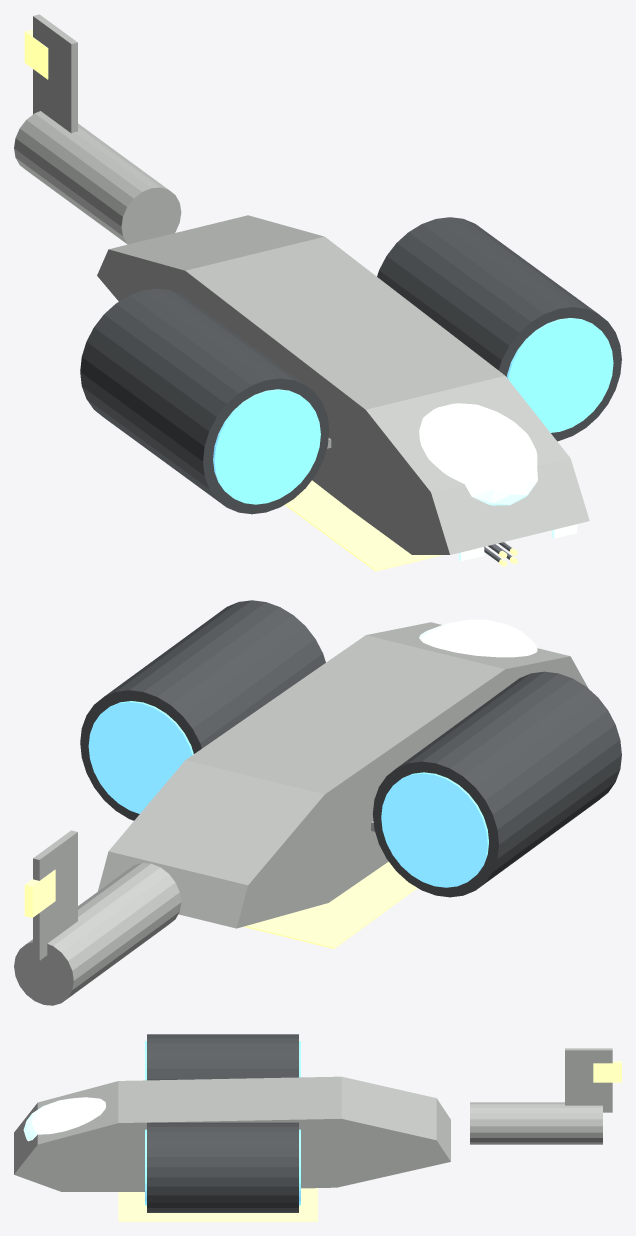
File: plasma_heli.glb
3 renders of one model, top to bottom at view 1: azimuth 30°, elevation 25°; view 2: azimuth 150°, elevation 25°; view 3: azimuth 270°, elevation 25°, orthographic. The views are drawn at different scales.
Visible parts, largest first — view 1: plasma_heli_body, plasma_heli_duct-1, plasma_heli_duct1, plasma_heli_boom, plasma_heli_ring-1_f, plasma_heli_canopy, plasma_heli_ring1_f, plasma_heli_underglow, plasma_heli_fin, plasma_heli_fin_glow; view 2: plasma_heli_body, plasma_heli_duct-1, plasma_heli_duct1, plasma_heli_boom, plasma_heli_ring-1_r, plasma_heli_ring1_r, plasma_heli_underglow, plasma_heli_fin, plasma_heli_canopy, plasma_heli_fin_glow; view 3: plasma_heli_body, plasma_heli_duct1, plasma_heli_duct-1, plasma_heli_boom, plasma_heli_underglow, plasma_heli_fin, plasma_heli_canopy, plasma_heli_fin_glow.
Boxes of the visible parts, x1,y1,x2,y2 form: plasma_heli_body: (97, 215, 589, 554); plasma_heli_duct-1: (80, 288, 329, 514); plasma_heli_duct1: (377, 217, 621, 441); plasma_heli_boom: (14, 111, 181, 244); plasma_heli_ring-1_f: (213, 389, 320, 504); plasma_heli_canopy: (419, 403, 537, 505); plasma_heli_ring1_f: (506, 318, 613, 432); plasma_heli_underglow: (285, 480, 442, 571); plasma_heli_fin: (33, 14, 77, 133); plasma_heli_fin_glow: (24, 29, 48, 79); plasma_heli_body: (98, 622, 588, 928); plasma_heli_duct-1: (372, 671, 621, 897); plasma_heli_duct1: (80, 600, 325, 820); plasma_heli_boom: (14, 863, 181, 1005); plasma_heli_ring-1_r: (381, 772, 488, 887); plasma_heli_ring1_r: (88, 701, 193, 813); plasma_heli_underglow: (243, 861, 416, 948); plasma_heli_fin: (33, 830, 77, 960); plasma_heli_canopy: (419, 619, 537, 657); plasma_heli_fin_glow: (24, 869, 55, 917); plasma_heli_body: (14, 1076, 450, 1191); plasma_heli_duct1: (147, 1122, 298, 1212); plasma_heli_duct-1: (147, 1034, 298, 1080); plasma_heli_boom: (470, 1102, 602, 1144); plasma_heli_underglow: (118, 1188, 317, 1221); plasma_heli_fin: (565, 1048, 612, 1112); plasma_heli_canopy: (23, 1097, 105, 1141); plasma_heli_fin_glow: (593, 1061, 621, 1082).
Size of the model in its own units: 6.3 by 3.59 by 12.8.
